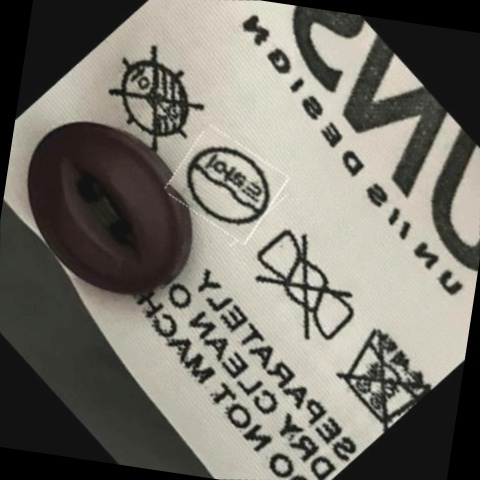DN_dry: (98, 40, 214, 158)
DN_wring: (239, 223, 370, 354)
dry_clean: (174, 131, 280, 240)
hand_wash: (326, 313, 437, 432)
